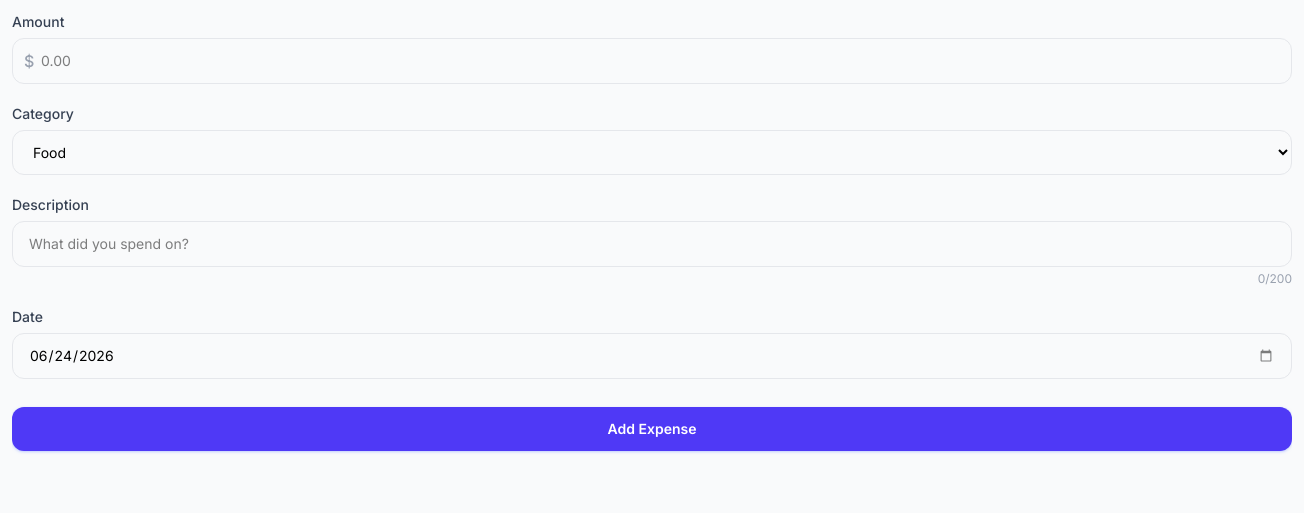
Test case: ExpenseForm — validation › shows an error when amount is zero
The width and height of the screenshot is (1304, 513).
Type "0" into the number field with placeholder "0.00" at (652, 61), box left=12, top=38, right=1292, bottom=84
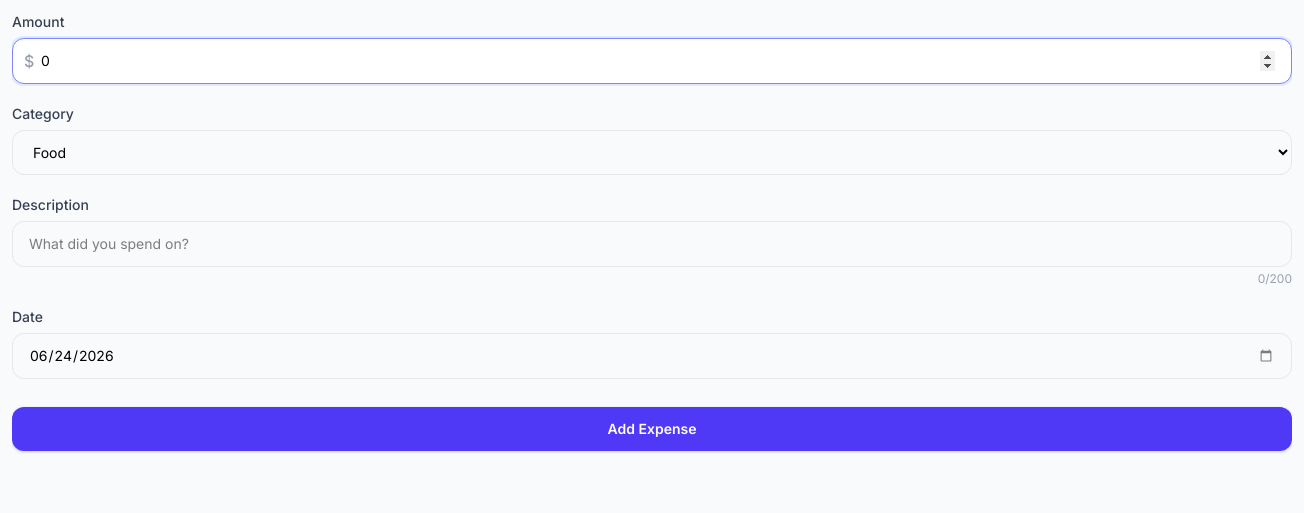
Click the button "Add Expense" at (652, 429), box left=12, top=407, right=1292, bottom=451
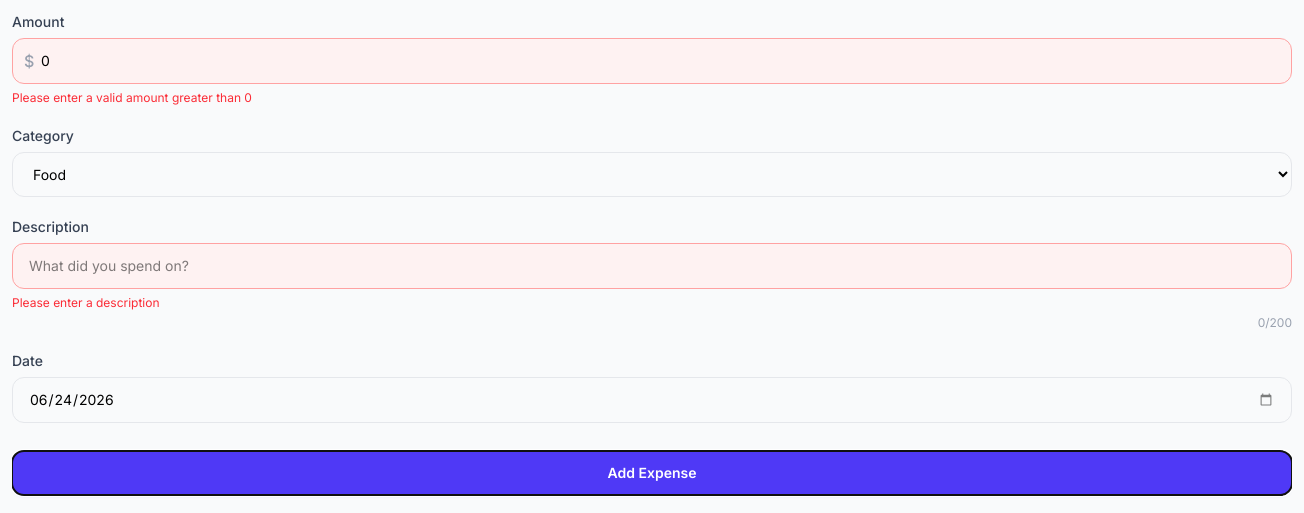
expect the text "Please enter a valid amount greater than 0" is shown: met, box left=12, top=90, right=252, bottom=105
